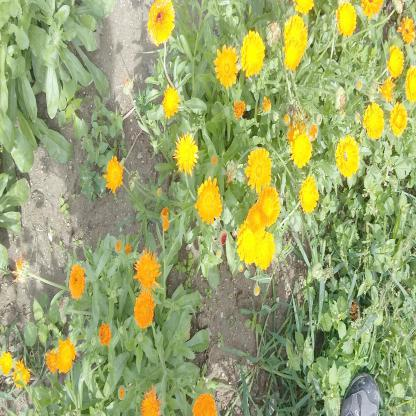marigold: (196, 178, 221, 223), (148, 0, 174, 43), (248, 149, 270, 196), (238, 221, 260, 264), (336, 137, 359, 178), (136, 253, 160, 292), (176, 133, 198, 175), (215, 47, 238, 87), (244, 30, 264, 74), (285, 16, 307, 54), (290, 127, 311, 166), (134, 293, 154, 330), (258, 189, 279, 224), (255, 232, 274, 270), (364, 102, 383, 138), (56, 339, 74, 374), (339, 3, 356, 38), (105, 160, 123, 192), (301, 178, 317, 213), (390, 103, 407, 135), (284, 38, 302, 67), (193, 394, 215, 416), (69, 266, 84, 295)
